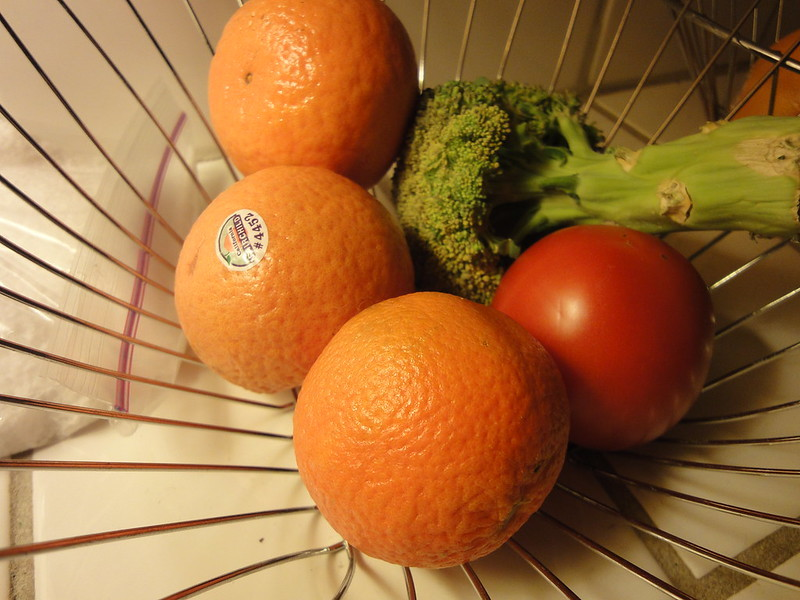orange: (288, 290, 577, 569), (171, 162, 424, 404), (205, 2, 423, 194)
